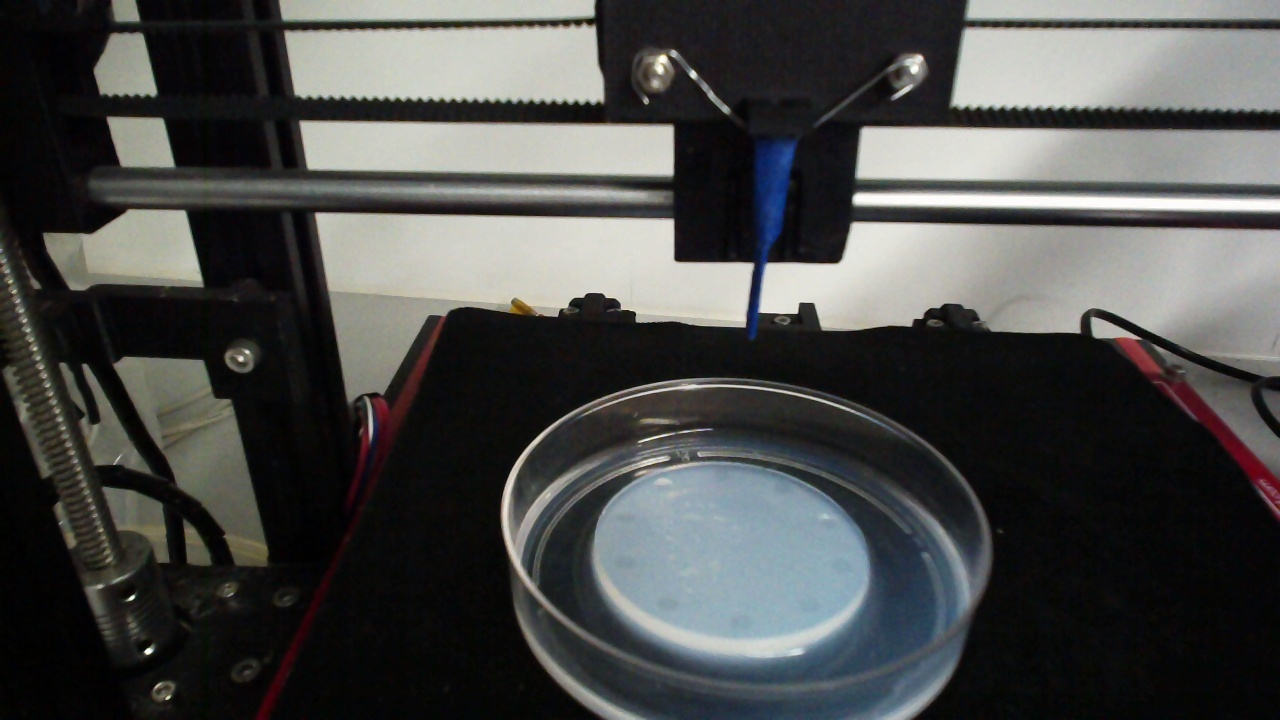groove: (655, 593, 681, 614), (610, 552, 637, 572), (795, 595, 823, 614), (727, 613, 754, 632), (612, 507, 636, 525), (831, 555, 852, 574), (772, 479, 793, 496), (816, 513, 838, 529), (711, 467, 732, 483), (654, 477, 672, 492)
needle: (744, 141, 797, 338)
